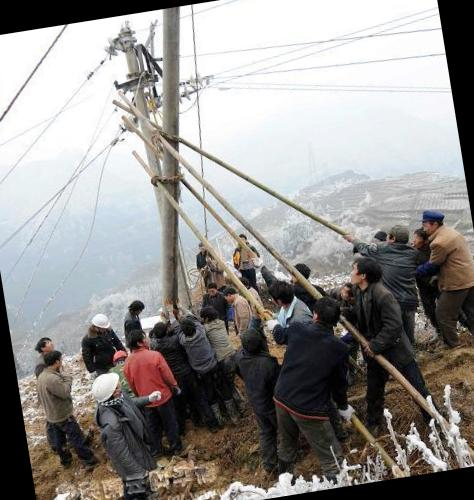no_helmet: (303, 290, 346, 329), (345, 252, 387, 289), (232, 322, 268, 357), (264, 273, 297, 308), (418, 201, 448, 235), (384, 218, 418, 247), (125, 324, 155, 356), (288, 256, 316, 287), (148, 314, 174, 344), (174, 310, 199, 340), (40, 346, 66, 372), (196, 300, 223, 324), (406, 225, 431, 249), (126, 296, 148, 319), (220, 284, 244, 305), (33, 333, 54, 355), (204, 279, 221, 298)
